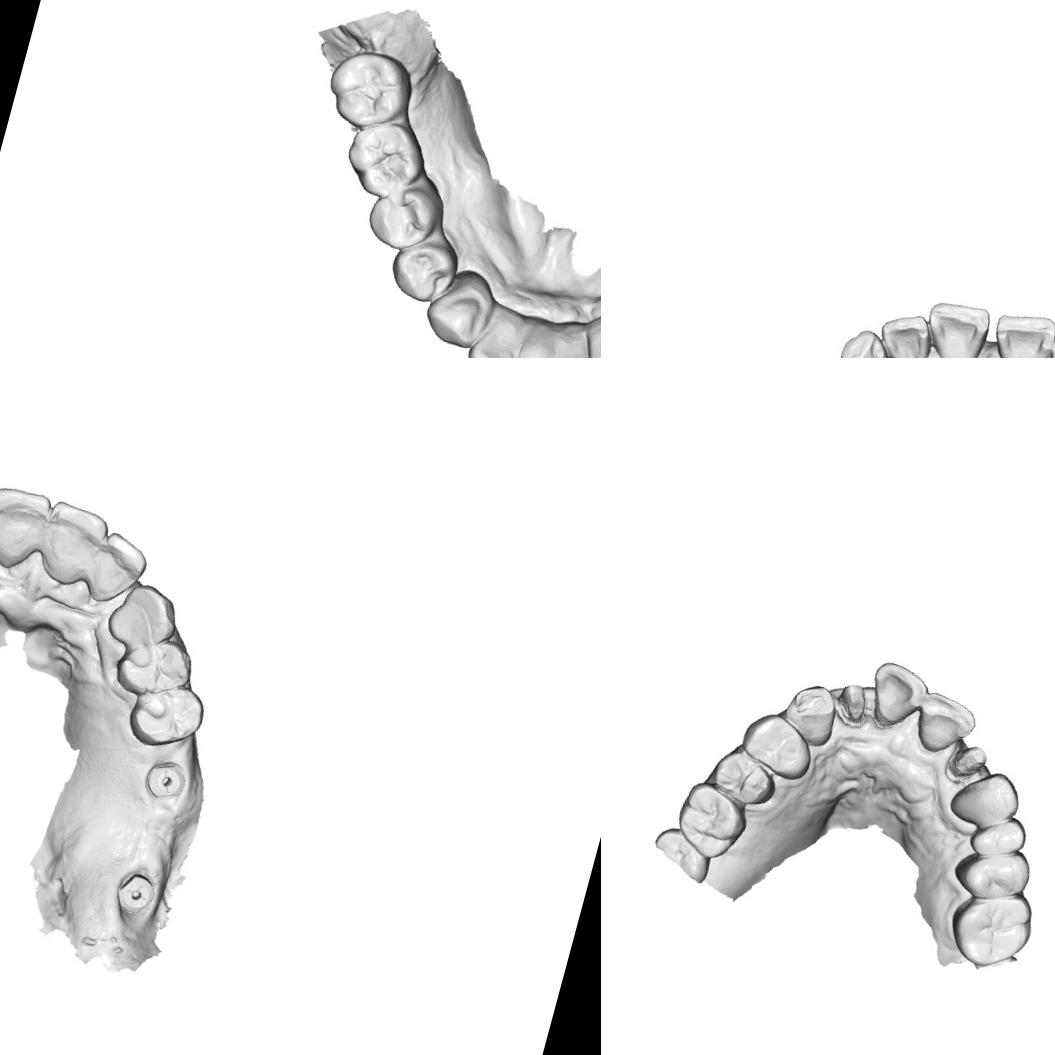canine: (100, 574, 186, 656), (418, 272, 498, 356), (775, 677, 844, 752), (830, 321, 903, 358)
crown: (944, 735, 995, 788), (832, 674, 876, 730)
implant_minus: (142, 755, 189, 804)
implant_plus: (111, 865, 163, 921)
incisor: (30, 497, 112, 594), (78, 525, 154, 613), (906, 685, 982, 763), (861, 655, 934, 736), (0, 477, 57, 577), (913, 291, 995, 358), (980, 302, 1055, 358), (868, 303, 939, 358), (461, 313, 524, 358), (503, 324, 564, 358), (543, 339, 601, 358)
molar: (318, 40, 422, 141), (939, 876, 1041, 978), (336, 111, 433, 210), (666, 774, 756, 868), (946, 836, 1036, 911), (644, 821, 716, 885)
premolar: (120, 671, 212, 757), (732, 702, 822, 785), (109, 626, 202, 706), (360, 177, 444, 258), (942, 758, 1028, 836), (384, 231, 464, 311), (705, 744, 783, 812), (964, 804, 1032, 868)
